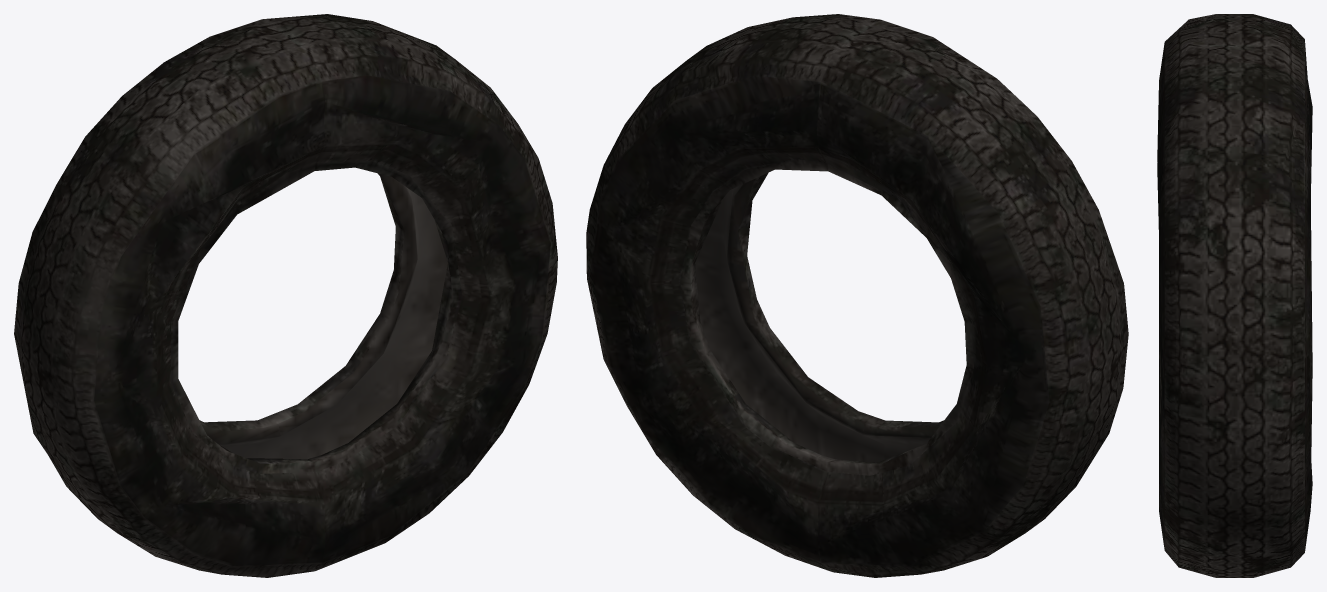
Rendered from tyre.glb.
The picture shows the model from 3 angles, left to right: view 1: azimuth 30°, elevation 25°; view 2: azimuth 150°, elevation 25°; view 3: azimuth 270°, elevation 25°; orthographic projection. The views are drawn at different scales.
Parts seen in each view (by area): view 1: old_tyre; view 2: old_tyre; view 3: old_tyre.
Part boxes in pixels (left/top/right/bottom): old_tyre: left=14, top=14, right=557, bottom=577; old_tyre: left=586, top=14, right=1128, bottom=577; old_tyre: left=1157, top=14, right=1312, bottom=577.
Bounding box in the file's own units: 0.6 × 0.5985 × 0.165.
1 material, 1 textured.
